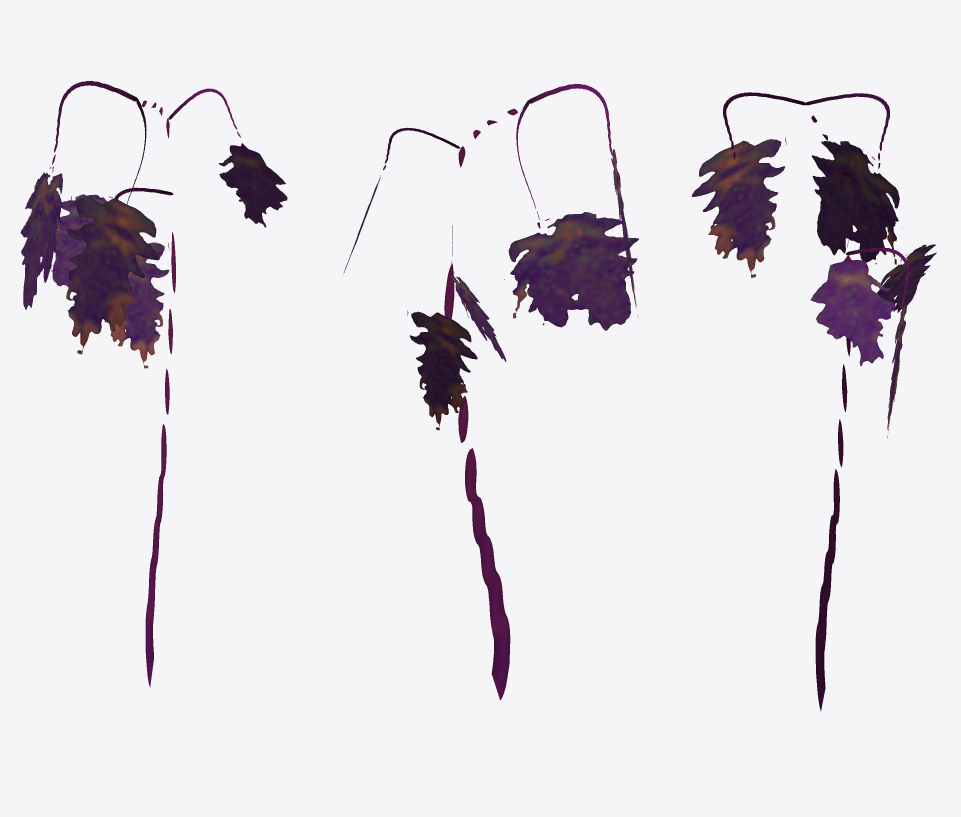
The model's file is Spin Reef Flower C1.fbx.
The picture shows the model from 3 angles, left to right: view 1: azimuth 30°, elevation 25°; view 2: azimuth 150°, elevation 25°; view 3: azimuth 270°, elevation 25°; orthographic projection.
Parts seen in each view (by area): view 1: Spin Reef Flower C1; view 2: Spin Reef Flower C1; view 3: Spin Reef Flower C1.
Boxes of the visible parts, x1,y1,x2,y2 form: Spin Reef Flower C1: [20, 81, 287, 687]; Spin Reef Flower C1: [343, 83, 638, 700]; Spin Reef Flower C1: [692, 92, 936, 711].
Bounding box in the file's own units: 74.74 × 190 × 56.62.
